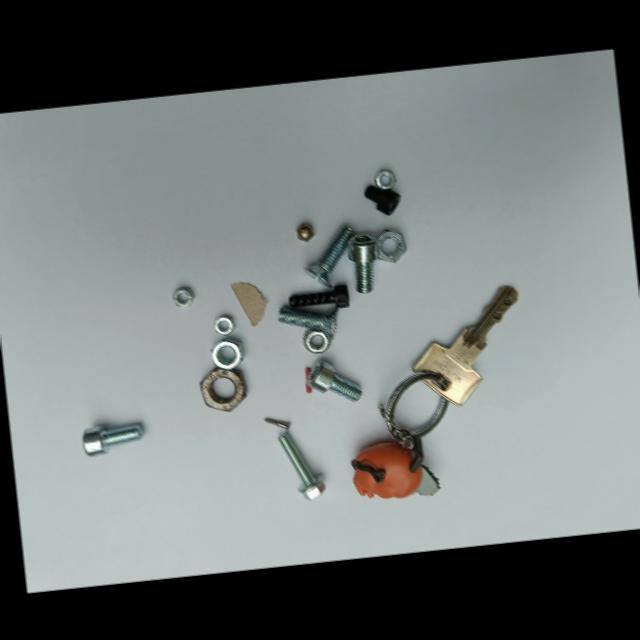bolt: (278, 427, 325, 498), (304, 224, 355, 287), (306, 359, 361, 400), (278, 305, 338, 340), (82, 421, 143, 455), (347, 233, 377, 292), (289, 283, 349, 308), (364, 184, 400, 214), (264, 416, 290, 431)
nuts: (200, 368, 246, 410), (211, 336, 244, 369), (374, 228, 406, 261), (303, 327, 331, 352), (172, 286, 194, 306), (374, 168, 395, 188), (214, 314, 235, 334), (296, 221, 314, 240)
